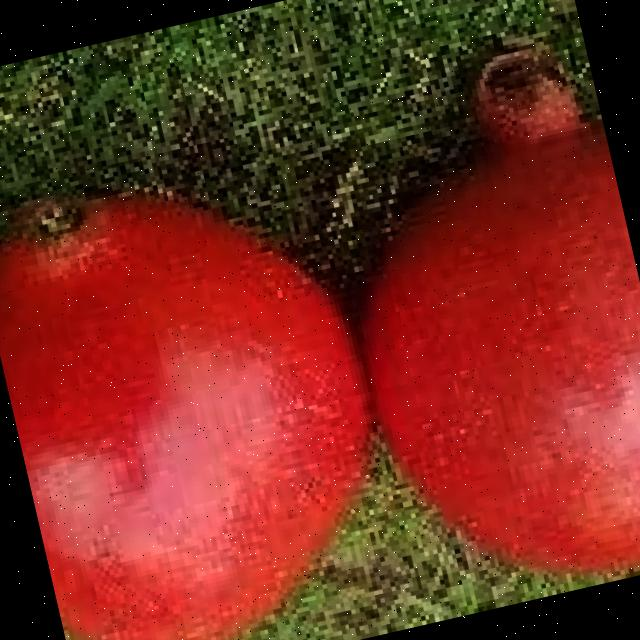Good_Pomegranate-50-60-days: (0, 42, 640, 640)
